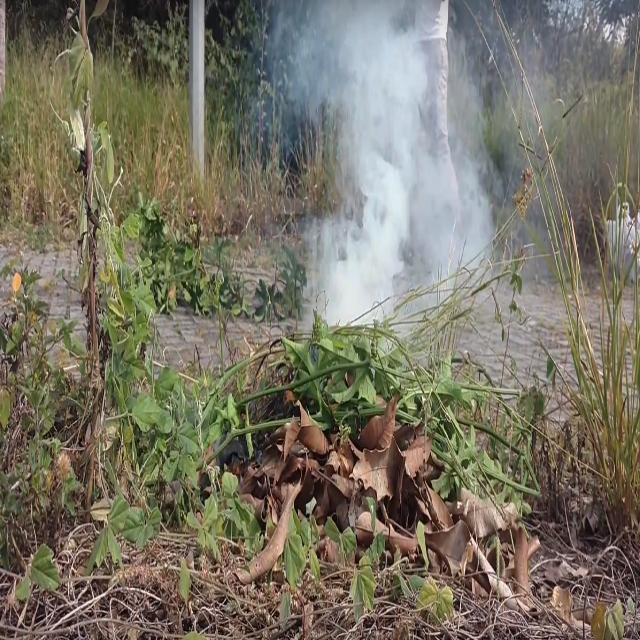smoke: (327, 19, 410, 281)
